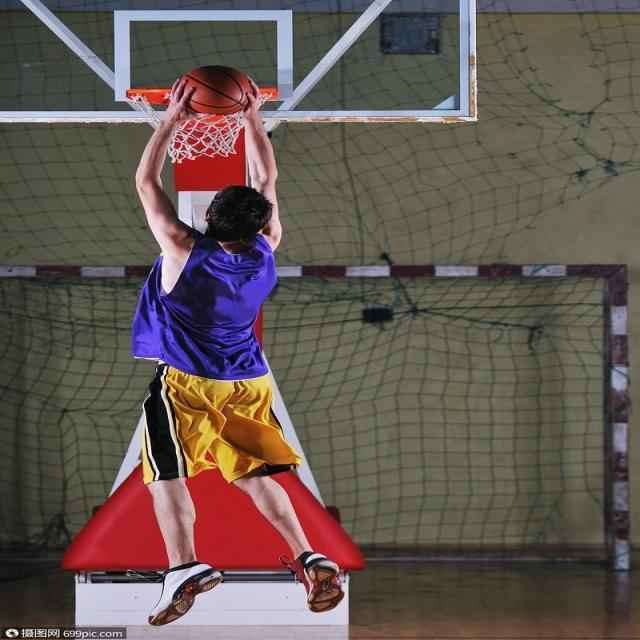rim: (174, 66, 256, 114)
